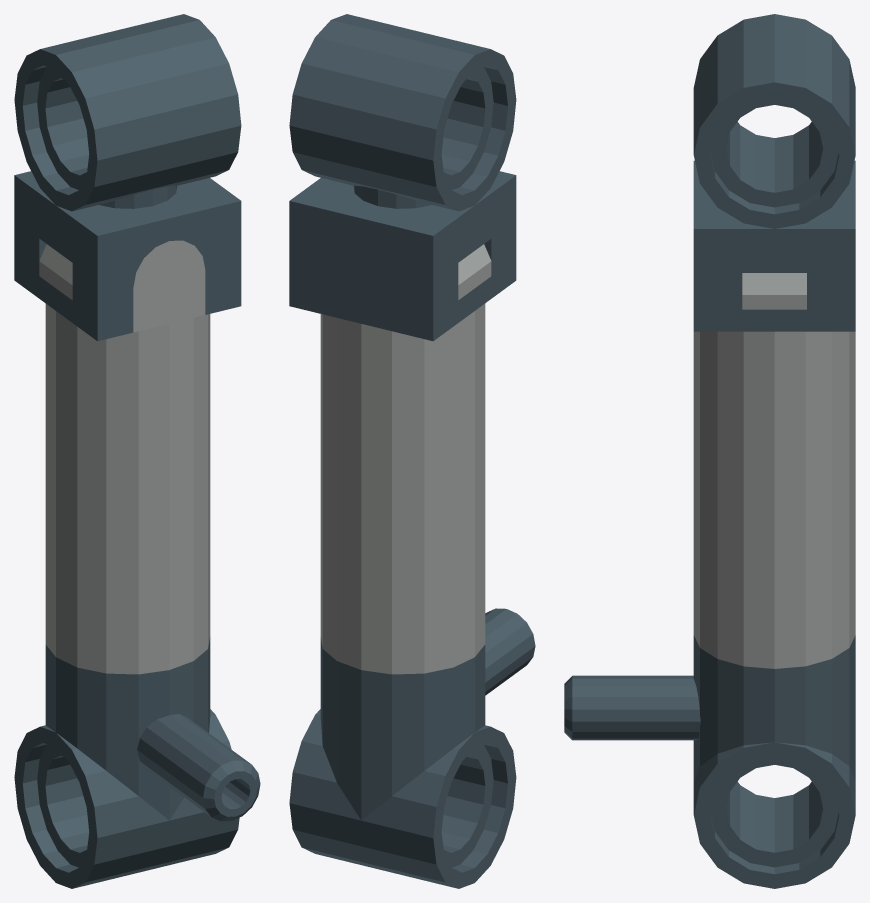
3 views of the same model, side by side, from view 1: azimuth 30°, elevation 25°; view 2: azimuth 150°, elevation 25°; view 3: azimuth 270°, elevation 25° (orthographic). The views are drawn at different scales.
Visible parts, largest first — view 1: world; view 2: world; view 3: world.
Boxes of the visible parts, left/top/right/bottom form: world: left=14, top=14, right=260, bottom=888; world: left=289, top=14, right=535, bottom=888; world: left=564, top=14, right=855, bottom=888.
Bounding box in the file's own units: 0.008 × 0.044 × 0.0144.
